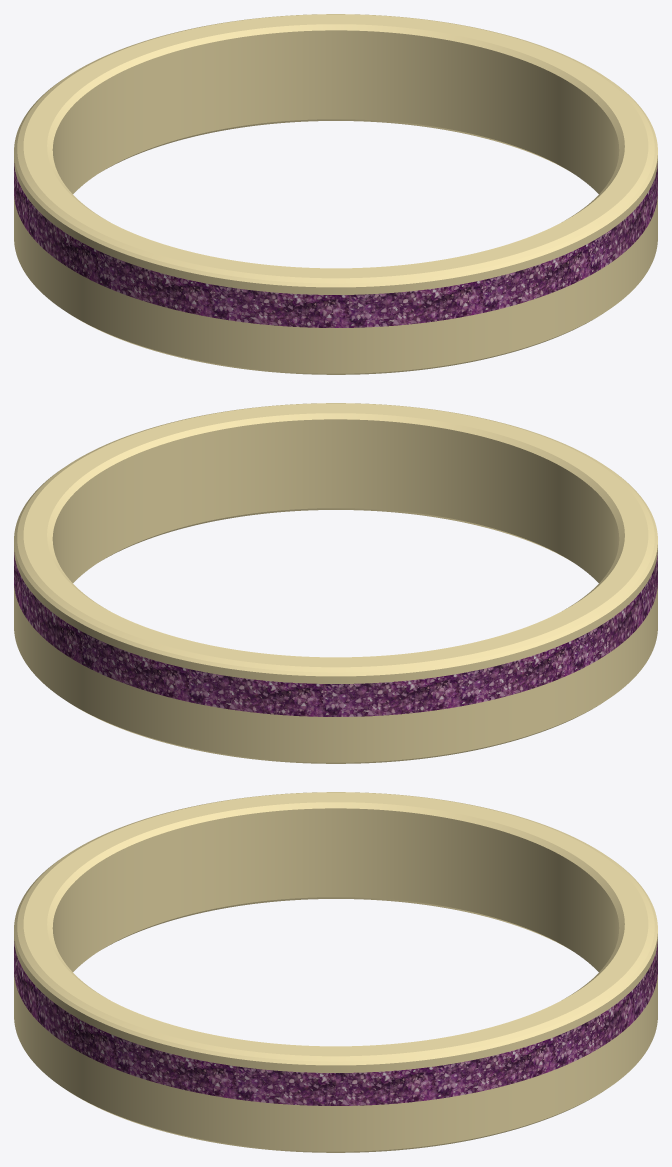
File: done_ring.glb
3 renders of one model, top to bottom at view 1: azimuth 30°, elevation 25°; view 2: azimuth 150°, elevation 25°; view 3: azimuth 270°, elevation 25°, orthographic.
Parts seen in each view (by area): view 1: [0078_DarkSlateGray], [0069_LimeGreen]; view 2: [0078_DarkSlateGray], [0069_LimeGreen]; view 3: [0078_DarkSlateGray], [0069_LimeGreen].
Boxes of the visible parts, box(x1,y1,x2,y2) form: [0078_DarkSlateGray]: box(14, 14, 657, 374); [0069_LimeGreen]: box(14, 163, 657, 327); [0078_DarkSlateGray]: box(14, 403, 657, 763); [0069_LimeGreen]: box(14, 552, 657, 716); [0078_DarkSlateGray]: box(14, 792, 657, 1152); [0069_LimeGreen]: box(14, 941, 657, 1105).
Bounding box in the file's own units: 0.46 × 0.076 × 0.46.
Materials: 2 (1 with a texture image).
